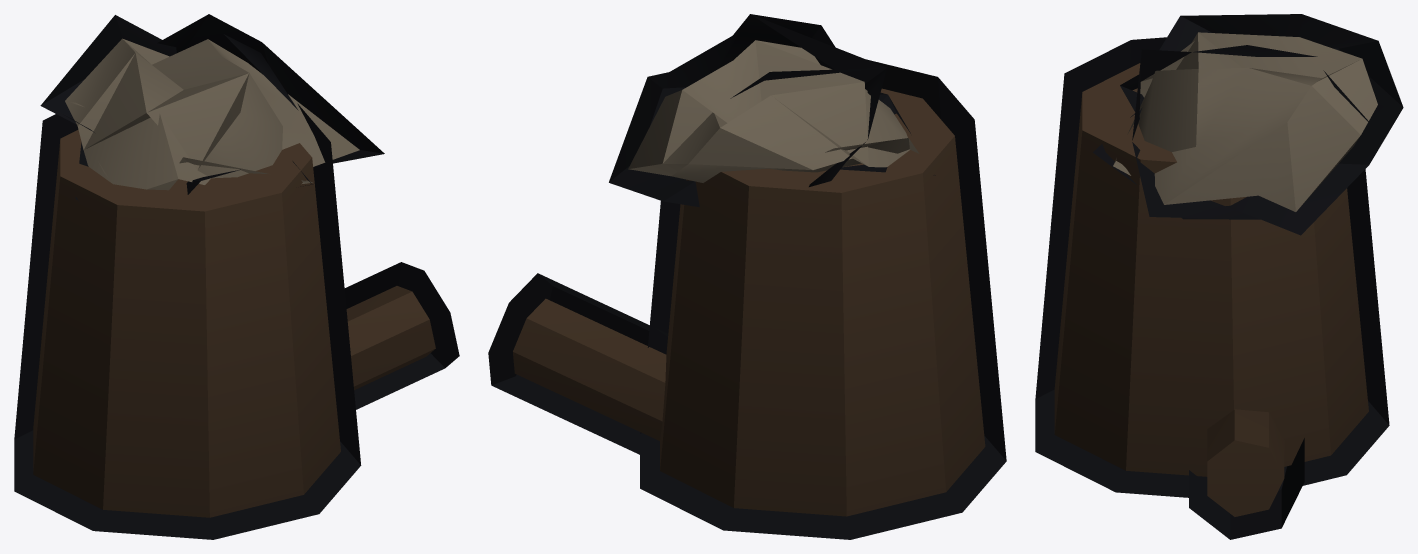
The model's file is prop_stump.glb.
The picture shows the model from 3 angles, left to right: view 1: azimuth 30°, elevation 25°; view 2: azimuth 150°, elevation 25°; view 3: azimuth 270°, elevation 25°; orthographic projection. The views are drawn at different scales.
Parts seen in each view (by area): view 1: prop; view 2: prop; view 3: prop.
Boxes of the visible parts, x1,y1,x2,y2 form: prop: (14,14,459,539); prop: (488,14,1006,539); prop: (1035,14,1403,539).
Bounding box in the file's own units: 1.37 × 1.33 × 0.9997.
